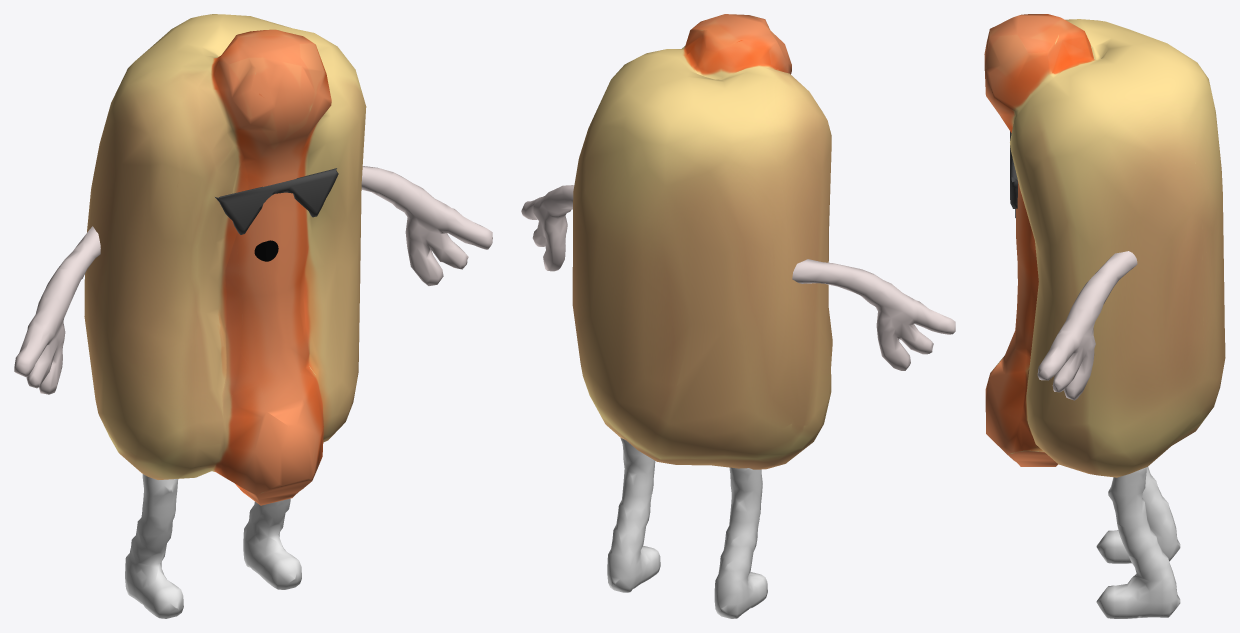
Rendered from Hot Dog Coice.glb.
3 views of the same model, side by side, from view 1: azimuth 30°, elevation 25°; view 2: azimuth 150°, elevation 25°; view 3: azimuth 270°, elevation 25° (orthographic). The views are drawn at different scales.
Visible parts, largest first — view 1: Sphere, Sphere.002, Sphere.003, Sphere.004, Sphere.005, Cube.001; view 2: Sphere, Sphere.003, Sphere.004, Sphere.005, Sphere.002; view 3: Sphere, Sphere.005, Sphere.002, Sphere.004, Cube.001.
Part boxes in pixels (x1,y1,x2,y2): Sphere: (84, 14, 366, 505); Sphere.002: (361, 166, 492, 285); Sphere.003: (14, 226, 100, 394); Sphere.004: (125, 474, 183, 618); Sphere.005: (243, 498, 301, 589); Cube.001: (215, 168, 338, 234); Sphere: (572, 14, 832, 469); Sphere.003: (792, 259, 955, 370); Sphere.004: (714, 467, 767, 618); Sphere.005: (607, 438, 660, 592); Sphere.002: (521, 185, 574, 271); Sphere: (984, 14, 1225, 477); Sphere.005: (1096, 467, 1180, 618); Sphere.002: (1037, 251, 1137, 400); Sphere.004: (1096, 466, 1180, 563); Cube.001: (1010, 131, 1017, 208).
Size of the model in its own units: 6.18 by 7.29 by 2.82.
Materials: 4 (1 with a texture image).
